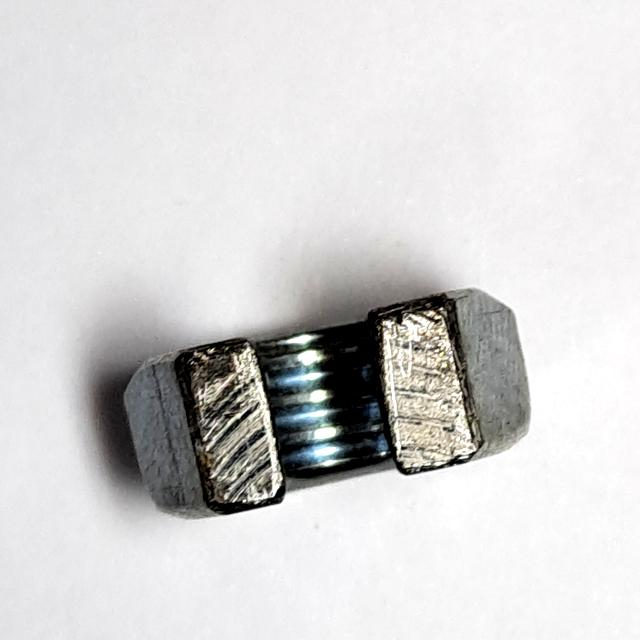Side-Fracture: (113, 278, 539, 527)
